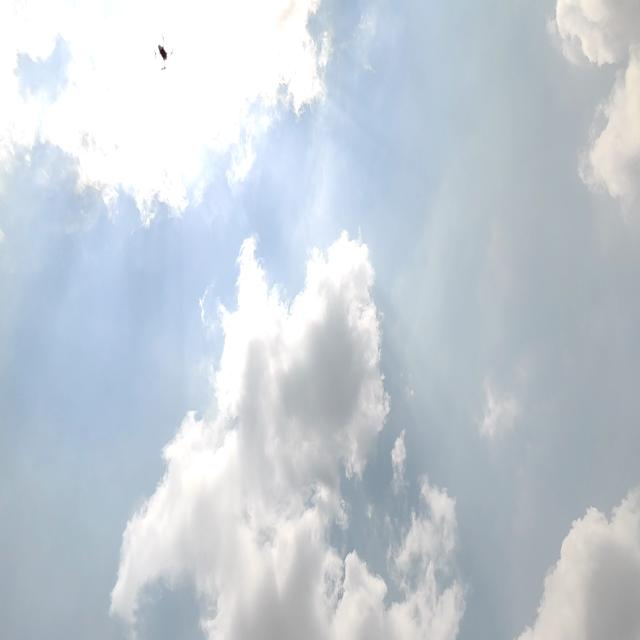drone: (146, 27, 176, 75)
